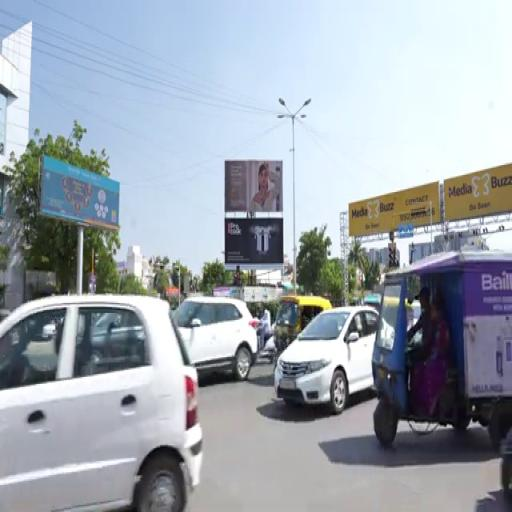Car: (0, 295, 202, 511), (275, 306, 379, 413), (175, 298, 259, 381)
